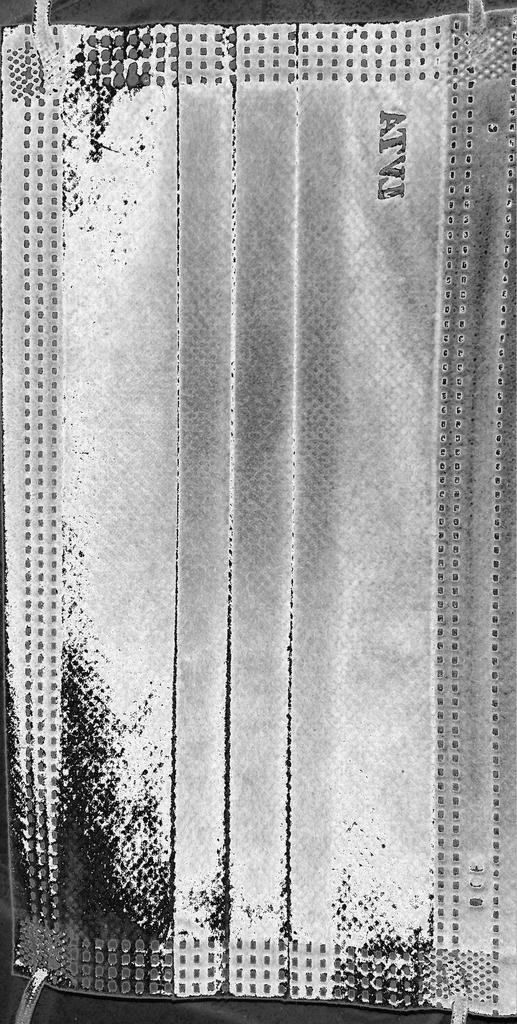High GSM: (57, 12, 438, 1011)
